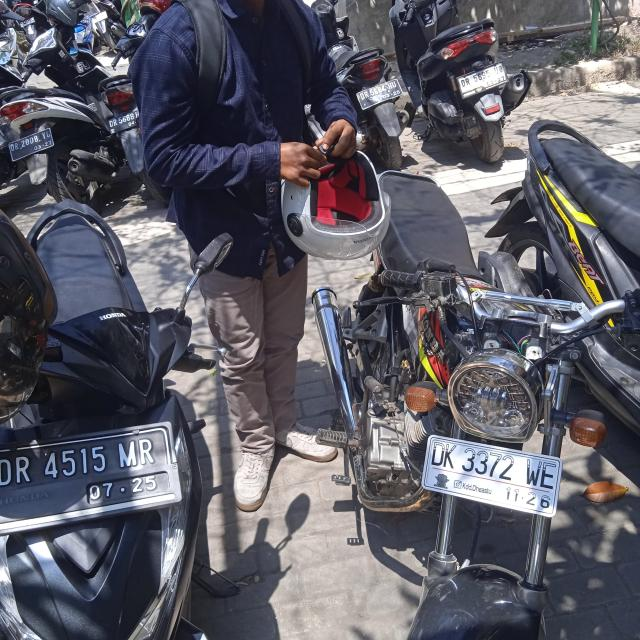plate: (0, 427, 174, 512), (423, 432, 561, 521), (457, 62, 506, 96), (356, 77, 404, 111), (8, 126, 54, 161), (108, 108, 141, 135)
